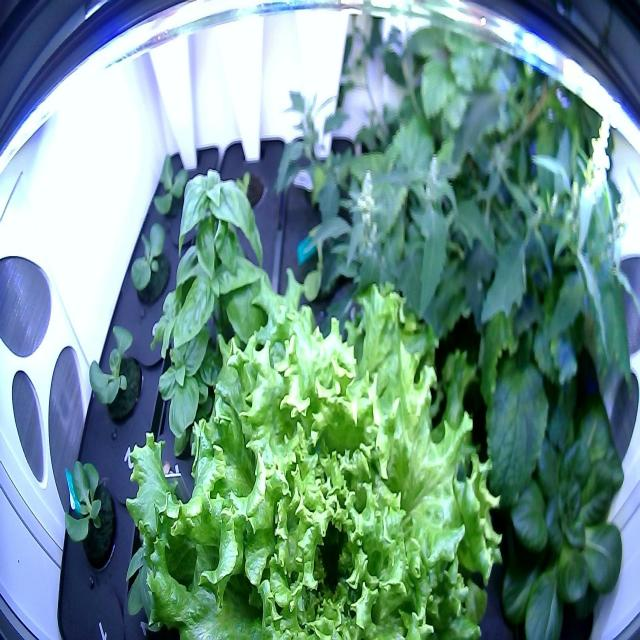Ready: (460, 350, 640, 638)
young: (58, 452, 124, 584), (84, 319, 146, 438), (290, 217, 348, 322), (124, 212, 174, 312), (146, 147, 200, 230)
